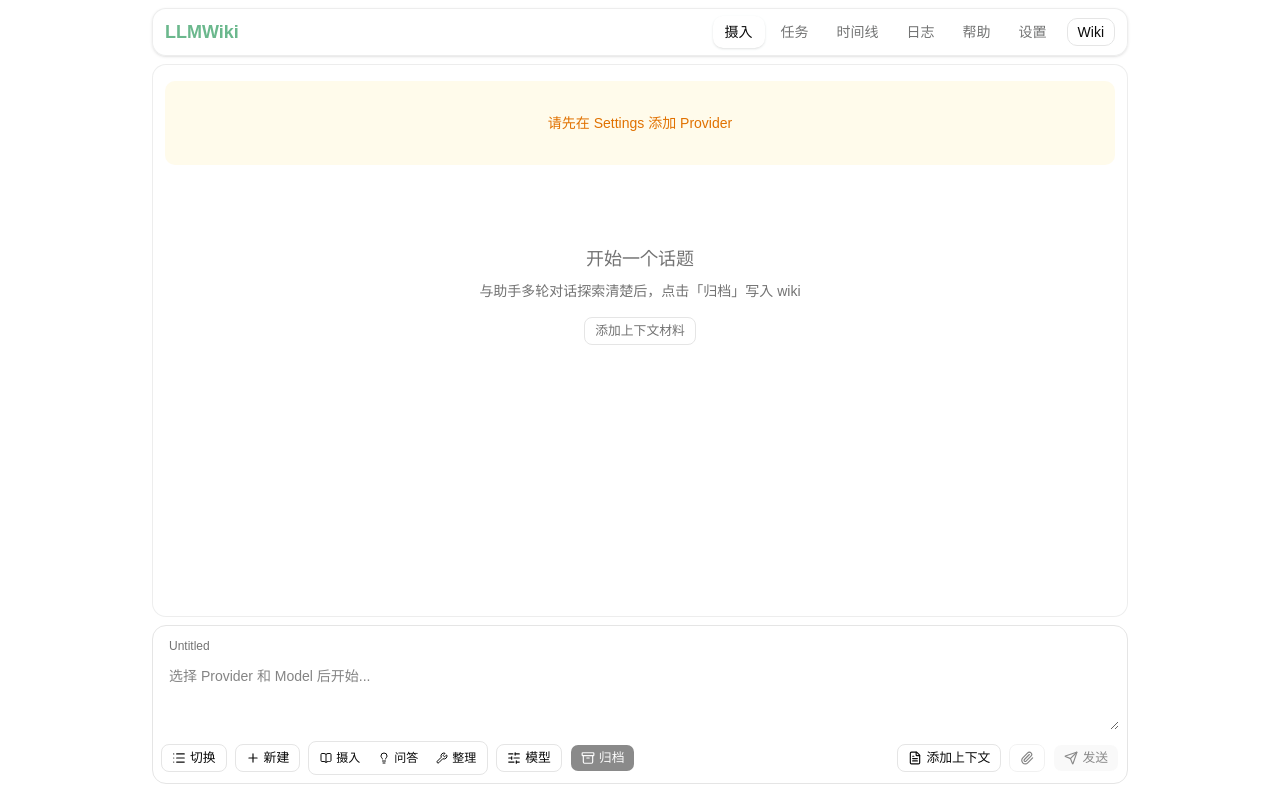
it: App navigation › navigates to wiki reader shell when Wiki link is clicked
This screenshot has width=1280, height=800.
Expected: the button "摄入" in the row of "LLMWiki" is shown, [713,16,765,48]
Click the link "Wiki". click: (1091, 32)
box: [1067,18,1115,46]
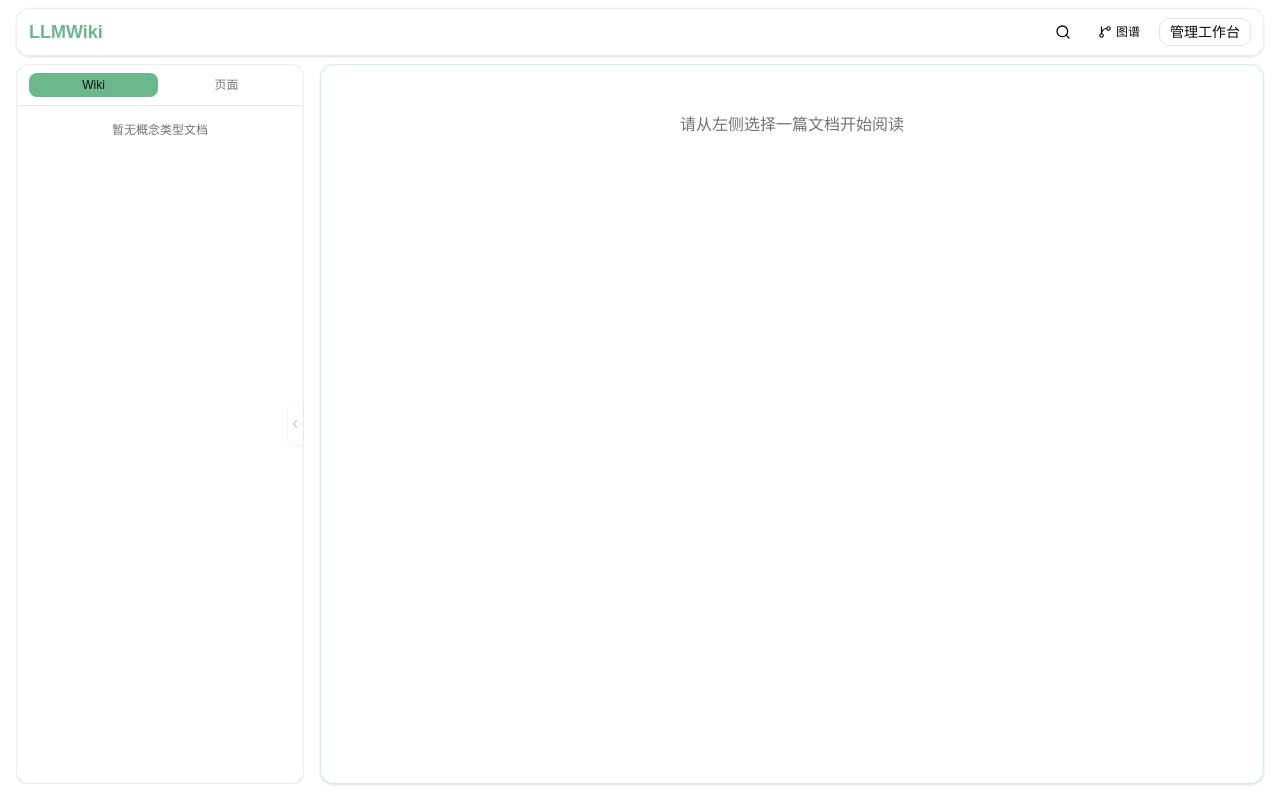
Now the link "管理工作台" is shown, box [1159,18,1251,46]
Now the button "模型" is gone
